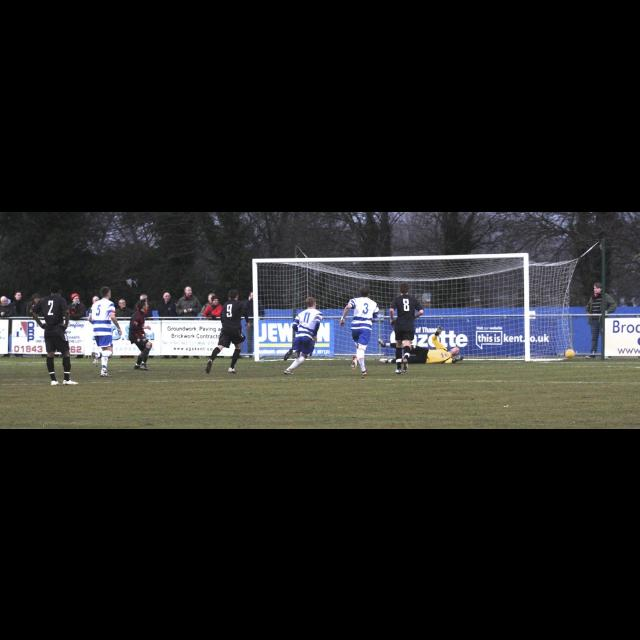Football: (564, 346, 574, 356)
